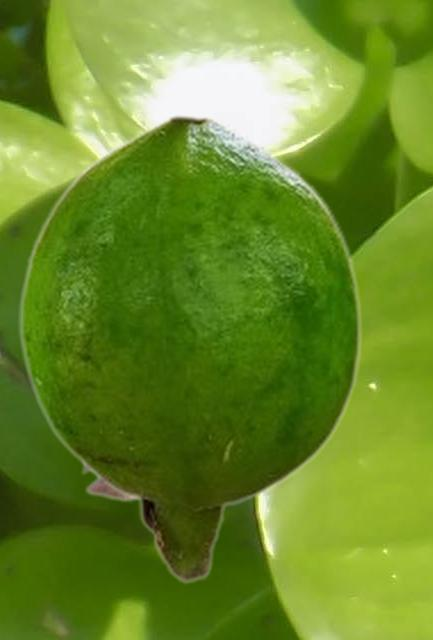guava: (18, 113, 362, 584)
